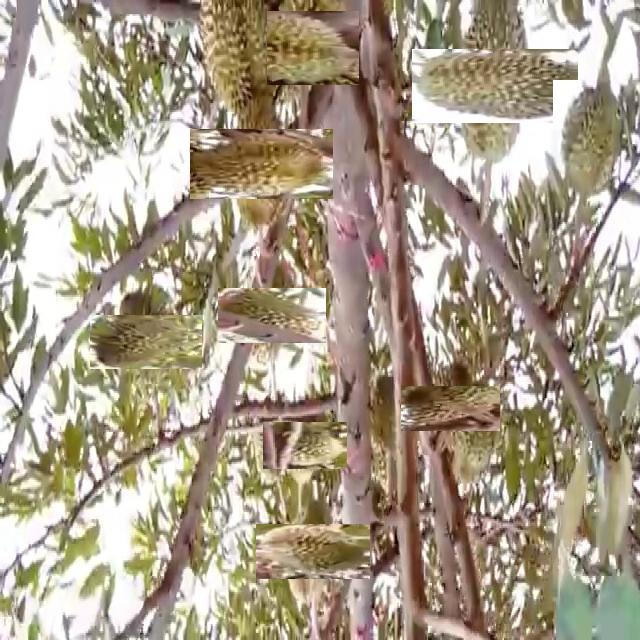durian: (435, 25, 555, 146), (208, 111, 315, 218), (195, 2, 283, 120), (553, 80, 625, 204), (271, 509, 356, 594), (271, 6, 354, 90), (104, 300, 187, 384), (231, 275, 313, 357), (414, 372, 486, 445), (448, 375, 495, 485), (272, 413, 338, 479), (251, 406, 289, 484)
